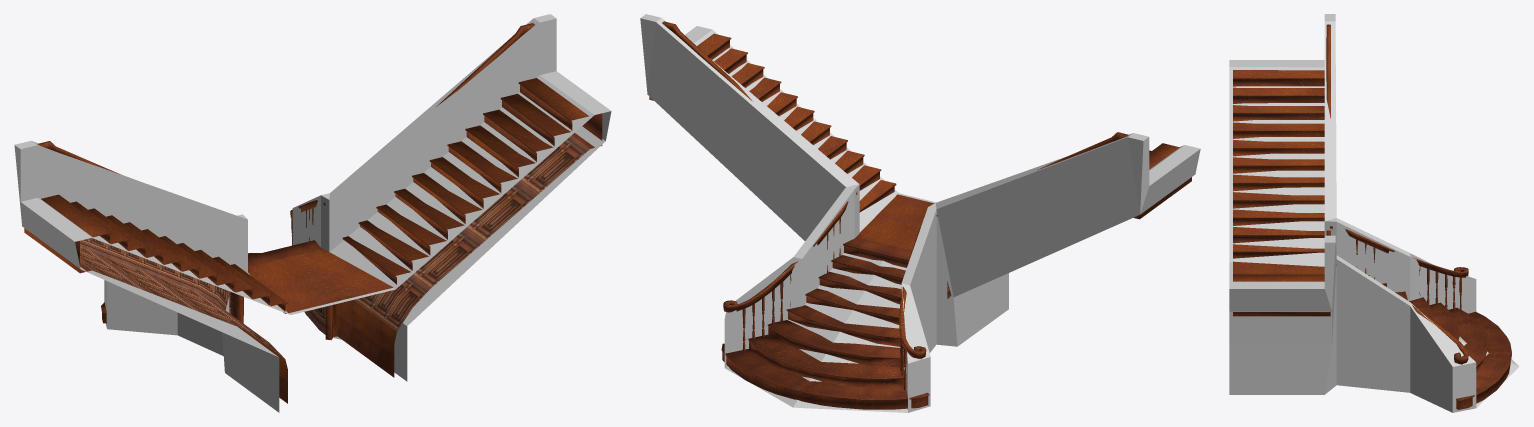
The model's file is Grand Stairs.fbx.
The picture shows the model from 3 angles, left to right: view 1: azimuth 30°, elevation 25°; view 2: azimuth 150°, elevation 25°; view 3: azimuth 270°, elevation 25°; orthographic projection. The views are drawn at different scales.
Parts seen in each view (by area): view 1: Stair_grand_ColMesh, Staircase_Grand_LOD0; view 2: Stair_grand_ColMesh, Staircase_Grand_LOD0; view 3: Stair_grand_ColMesh, Staircase_Grand_LOD0.
Boxes of the visible parts, x1=… form: Stair_grand_ColMesh: x1=14, y1=14, x2=611, y2=412; Staircase_Grand_LOD0: x1=24, y1=23, x2=602, y2=403; Stair_grand_ColMesh: x1=640, y1=14, x2=1200, y2=412; Staircase_Grand_LOD0: x1=649, y1=21, x2=1191, y2=409; Stair_grand_ColMesh: x1=1229, y1=14, x2=1519, y2=412; Staircase_Grand_LOD0: x1=1233, y1=24, x2=1511, y2=409.
Size of what is drawn, in the model's own units: 1209 by 589 by 648.
